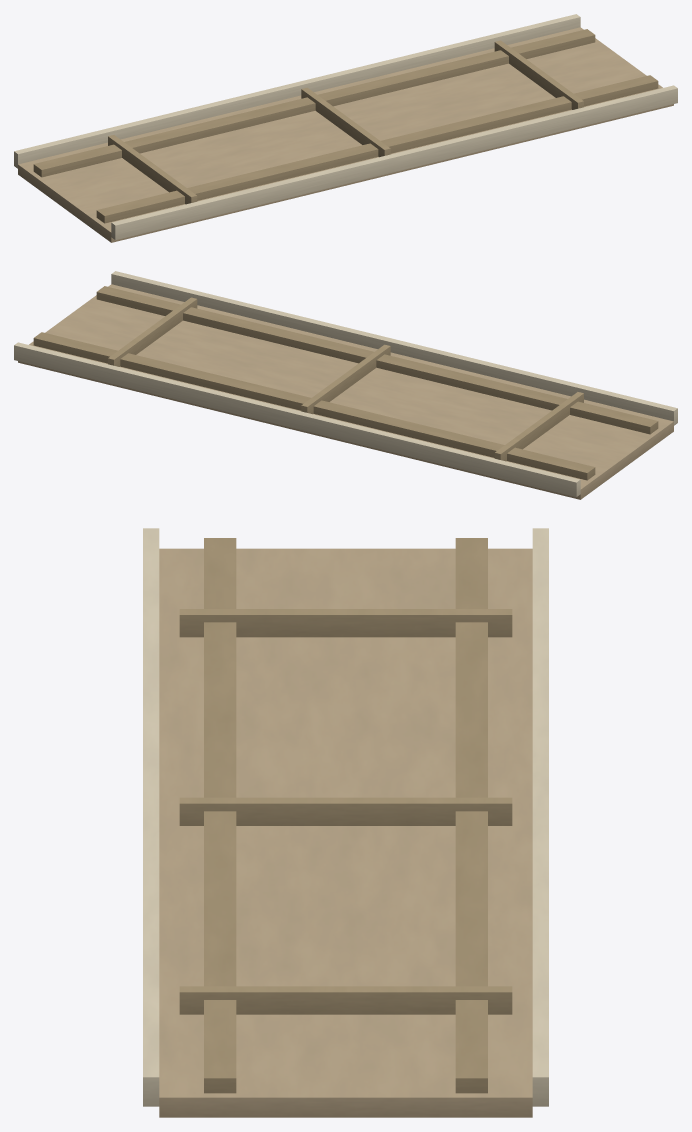
File: road_plank.glb
3 renders of one model, top to bottom at view 1: azimuth 30°, elevation 25°; view 2: azimuth 150°, elevation 25°; view 3: azimuth 270°, elevation 25°, orthographic. The views are drawn at different scales.
Visible parts, largest first — view 1: road_plank; view 2: road_plank; view 3: road_plank.
Part boxes in pixels (<box>): road_plank: <box>14,14,677,242</box>; road_plank: <box>14,271,677,499</box>; road_plank: <box>143,528,548,1117</box>.
Bounding box in the file's own units: 3.2 × 0.116 × 1.
1 material, 1 textured.
